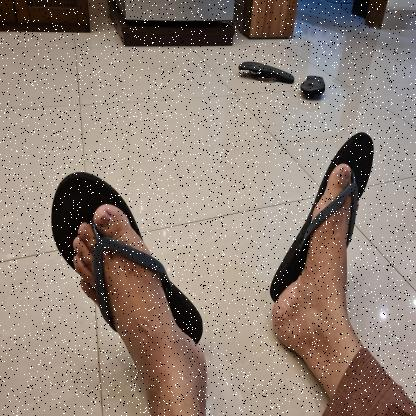leg: (46, 160, 212, 416), (266, 122, 379, 394)
